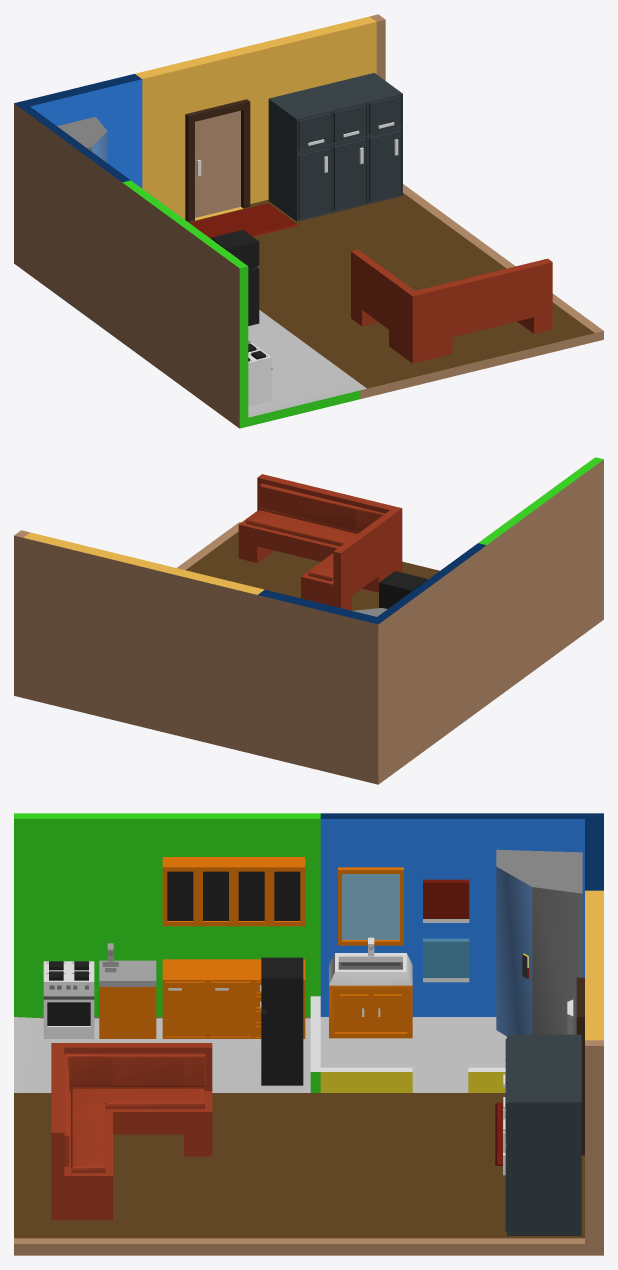
File: gym.gltf
The picture shows the model from 3 angles, top to bottom: view 1: azimuth 30°, elevation 25°; view 2: azimuth 150°, elevation 25°; view 3: azimuth 270°, elevation 25°; orthographic projection. The views are drawn at different scales.
Visible parts, largest first — view 1: Cube_0; view 2: Cube_0; view 3: Cube_0.
Part boxes in pixels (bbox=[...]): Cube_0: bbox=[14, 14, 603, 428]; Cube_0: bbox=[14, 457, 603, 784]; Cube_0: bbox=[14, 813, 603, 1255].
Size of the model in its own units: 12.05 by 5.07 by 12.92.
1 material, 1 textured.
